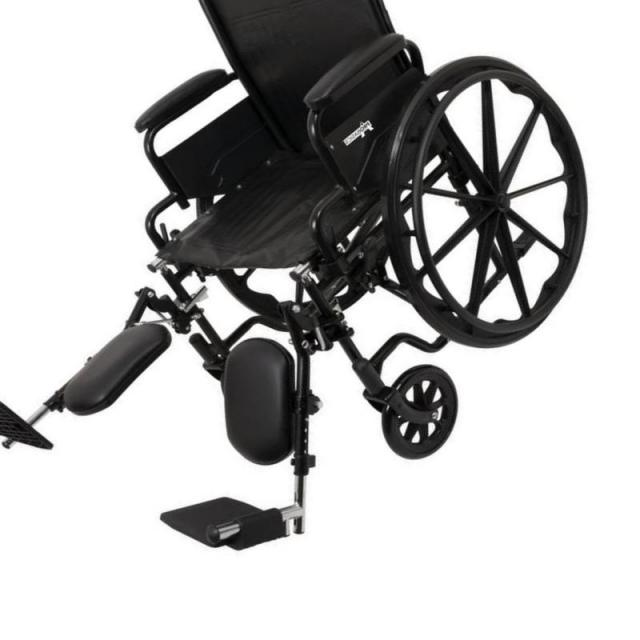wheelchair: (0, 0, 595, 574)
